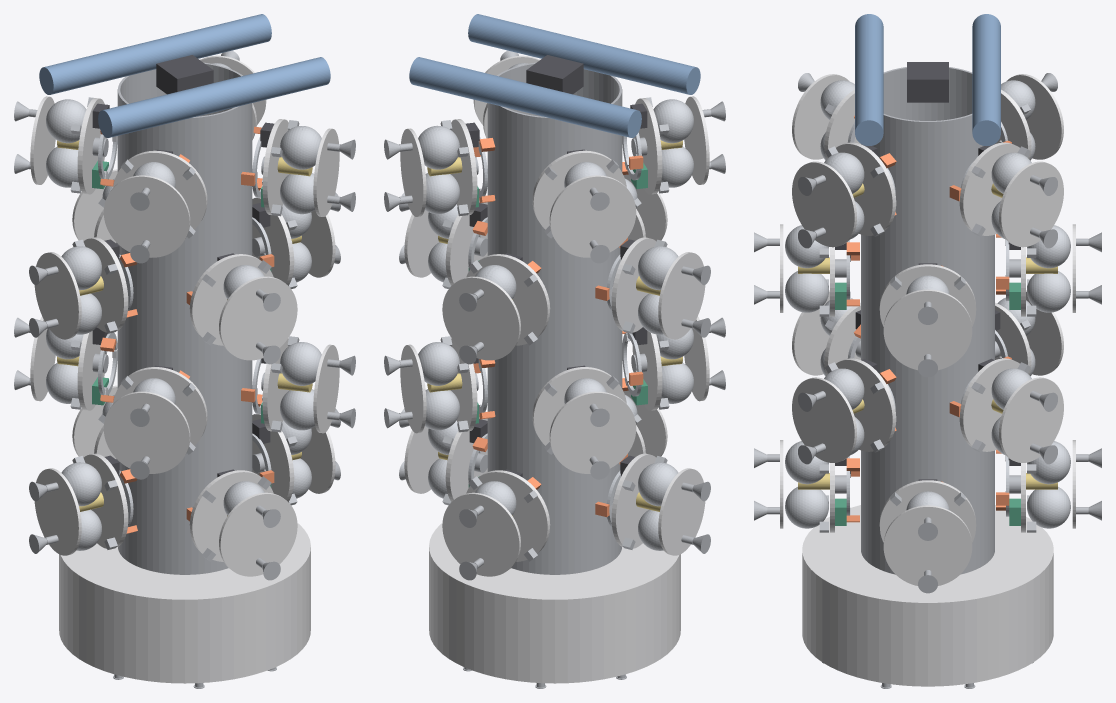
Rendered from v6_carrier_stowed.glb.
3 views of the same model, side by side, from view 1: azimuth 30°, elevation 25°; view 2: azimuth 150°, elevation 25°; view 3: azimuth 270°, elevation 25° (orthographic).
Visible parts, largest first — view 1: column, bus, wing_1, wing_0, k32_top, k12_top, k23_top, k03_top, k02_top, k22_top, k03_deck, k23_deck (+41 smaller); view 2: column, bus, wing_0, wing_1, k31_top, k11_top, k21_top, k01_top, k02_top, k22_top, k01_deck, k21_deck (+41 smaller); view 3: column, bus, k20_top, k00_top, k10_top, k13_top, k30_top, k33_top, wing_1, wing_0, k10_deck, k13_deck (+27 smaller).
Boxes of the visible parts, bbox=[...] form: column: bbox=[117, 62, 252, 574]; bus: bbox=[59, 523, 310, 683]; wing_1: bbox=[98, 57, 330, 137]; wing_0: bbox=[39, 14, 271, 94]; k32_top: bbox=[103, 175, 190, 257]; k12_top: bbox=[103, 391, 190, 473]; k23_top: bbox=[219, 276, 297, 360]; k03_top: bbox=[219, 492, 297, 576]; k02_top: bbox=[34, 468, 81, 555]; k22_top: bbox=[34, 252, 81, 339]; k03_deck: bbox=[189, 470, 273, 561]; k23_deck: bbox=[189, 254, 273, 345]; column: bbox=[487, 62, 622, 574]; bus: bbox=[429, 523, 680, 683]; wing_0: bbox=[409, 57, 641, 137]; wing_1: bbox=[468, 14, 700, 94]; k31_top: bbox=[549, 175, 636, 257]; k11_top: bbox=[549, 391, 636, 473]; k21_top: bbox=[442, 276, 520, 360]; k01_top: bbox=[442, 492, 520, 576]; k02_top: bbox=[658, 468, 705, 555]; k22_top: bbox=[658, 252, 705, 339]; k01_deck: bbox=[466, 470, 550, 561]; k21_deck: bbox=[466, 254, 550, 345]; column: bbox=[861, 67, 994, 574]; bus: bbox=[802, 505, 1053, 686]; k20_top: bbox=[883, 289, 972, 370]; k00_top: bbox=[883, 505, 972, 585]; k10_top: bbox=[999, 377, 1063, 462]; k13_top: bbox=[792, 377, 856, 462]; k30_top: bbox=[999, 161, 1063, 247]; k33_top: bbox=[792, 161, 856, 247]; wing_1: bbox=[855, 14, 883, 145]; wing_0: bbox=[972, 14, 1000, 145]; k10_deck: bbox=[959, 358, 1019, 451]; k13_deck: bbox=[836, 358, 896, 451].
Size of the model in its own units: 4.15 by 7.59 by 4.15.
